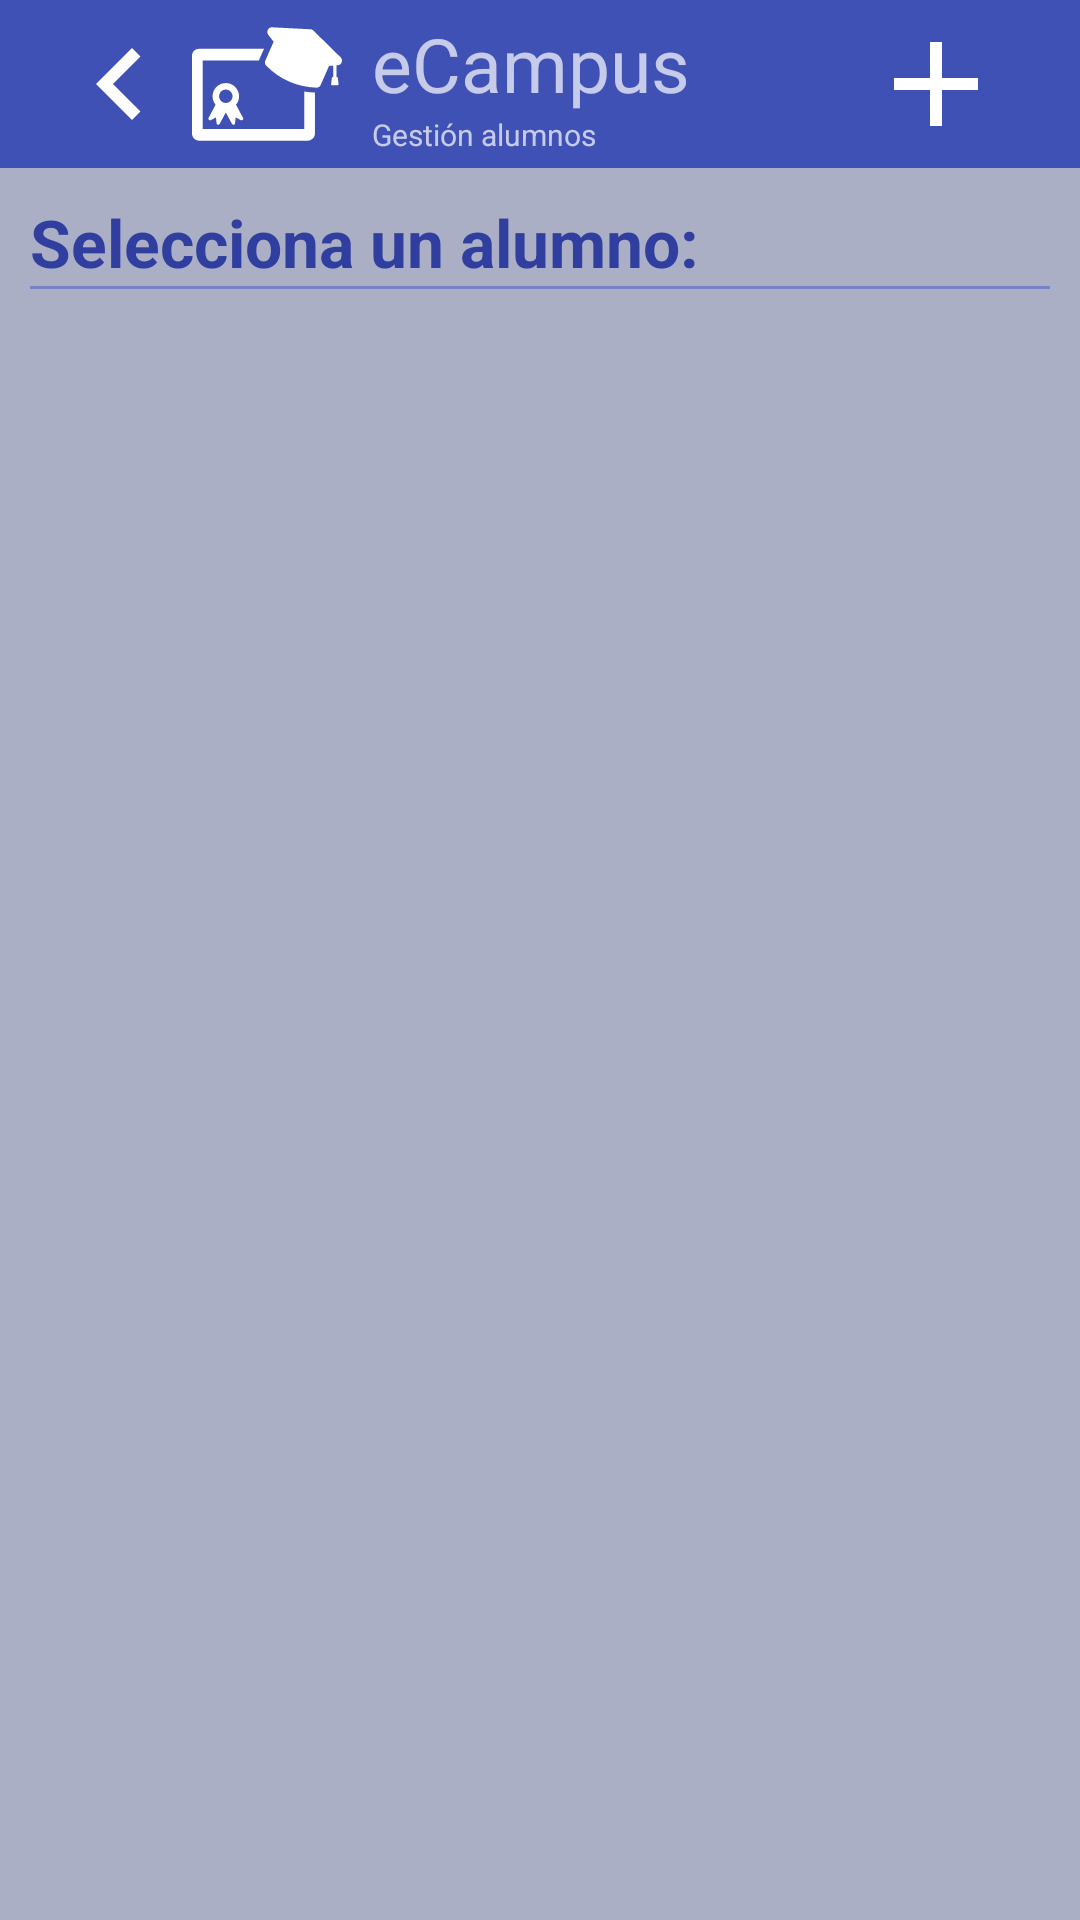

Screen size 1080px×1920px. Icon name, then its box in pixels as (x1, y1, x2, y2):
add toolbar: (894, 42, 978, 126)
back toolbar: (96, 48, 141, 120)
